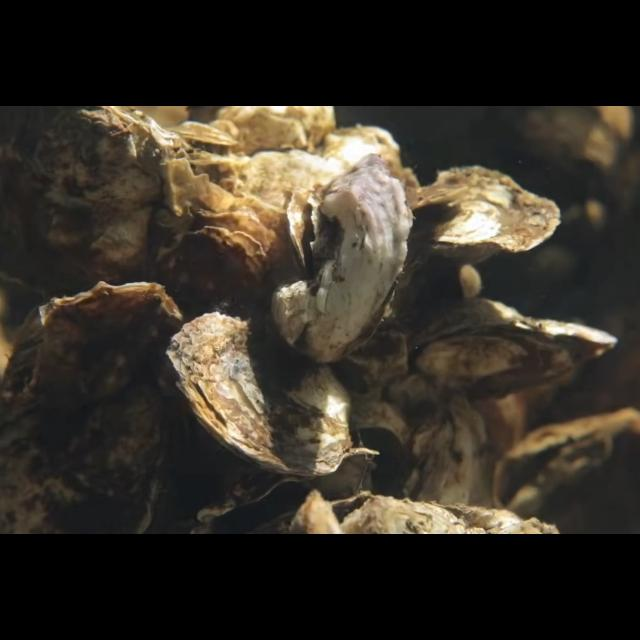Oyster-Closed: (0, 106, 216, 340), (0, 281, 182, 535), (162, 312, 354, 478), (269, 153, 413, 364), (397, 166, 561, 290), (402, 394, 496, 534), (148, 225, 272, 327)
Oyster-Open: (408, 297, 620, 403), (490, 410, 640, 534), (196, 448, 380, 534), (162, 120, 238, 168)
